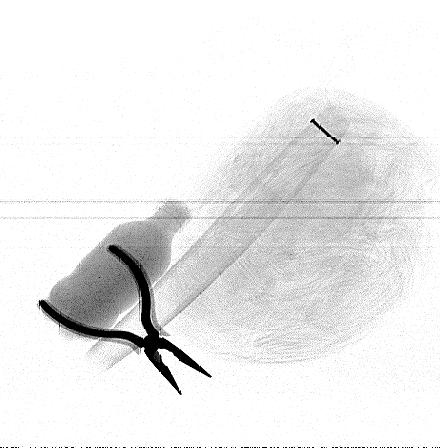Pliers: (36, 240, 215, 398)
